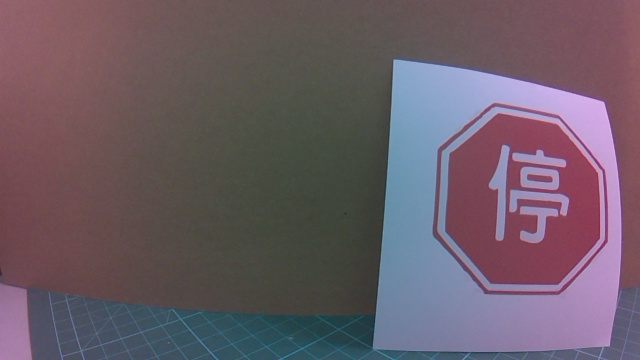stop: (407, 100, 593, 306)
